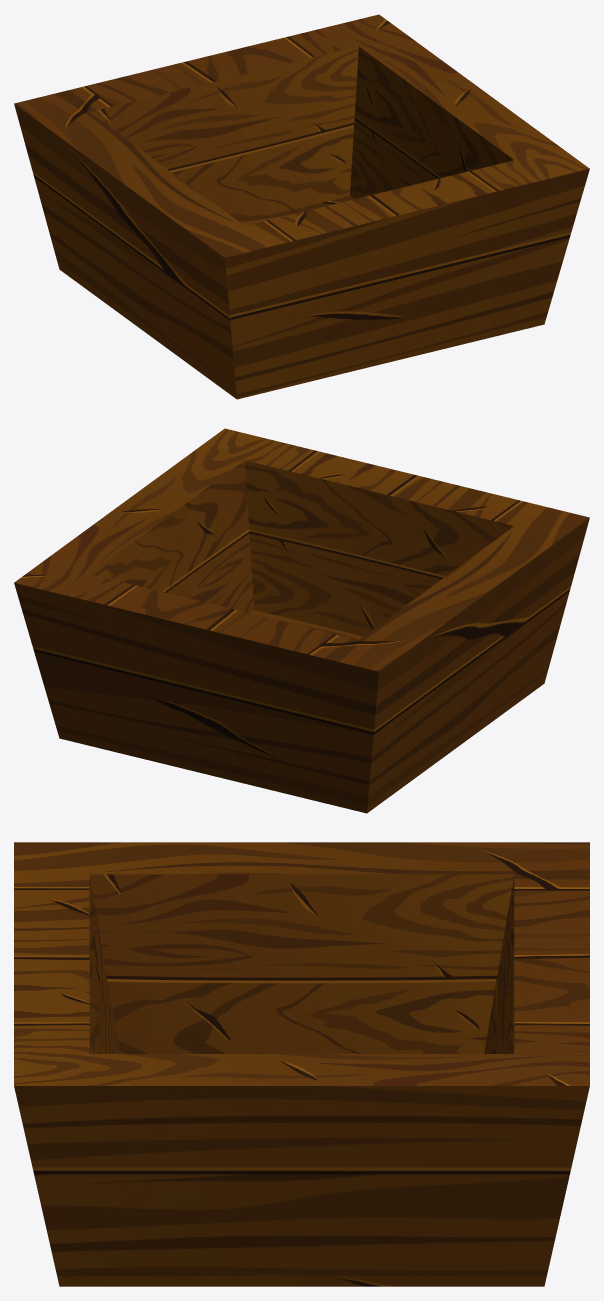
File: SpawnerBoulet.fbx
3 renders of one model, top to bottom at view 1: azimuth 30°, elevation 25°; view 2: azimuth 150°, elevation 25°; view 3: azimuth 270°, elevation 25°, orthographic. The views are drawn at different scales.
Parts seen in each view (by area): view 1: Cube; view 2: Cube; view 3: Cube.
Part boxes in pixels (x1,y1,x2,y2): Cube: [14, 14, 589, 399]; Cube: [14, 428, 589, 813]; Cube: [14, 842, 589, 1286].
Bounding box in the file's own units: 238 × 100 × 238.
Materials: 1 (1 with a texture image).
